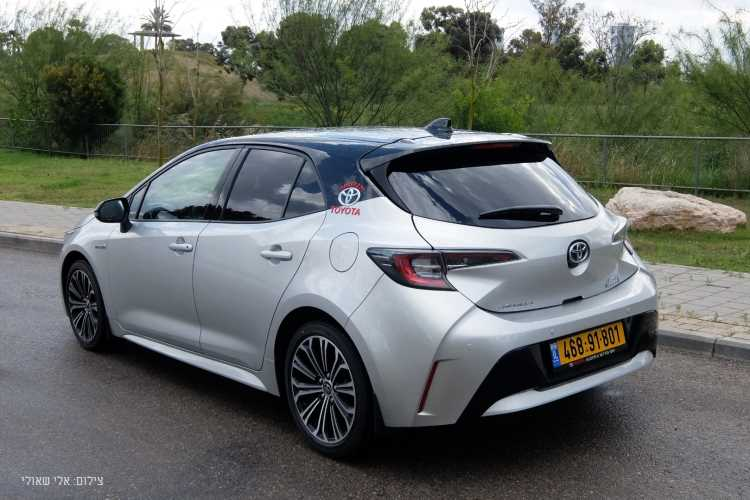licence: (549, 319, 626, 375)
